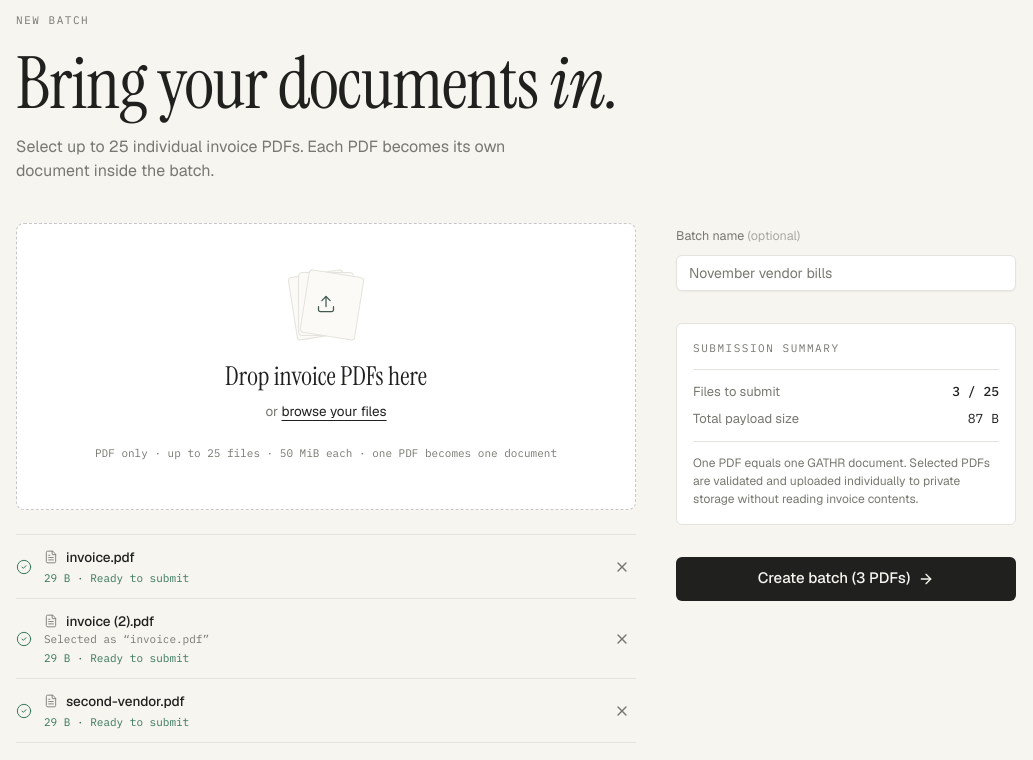
Test case: Phase 3 intake UI, validation, keyboard accessibility, and recovery › handles empty state, valid multi-PDF selection, filename collision disambiguation, and file removal
The image size is (1033, 760).
Earlier steps of the test are not shown.
Later steps or results of the test are not shown.
Expected: the button with aria-label "Select PDF files" is shown, [16,223,636,510]
Expected: the button "Create batch (3 PDFs)" is enabled, [676,556,1016,600]
Click the button named "Remove invoice (2).pdf" at [622, 639], box [608,625,636,653]
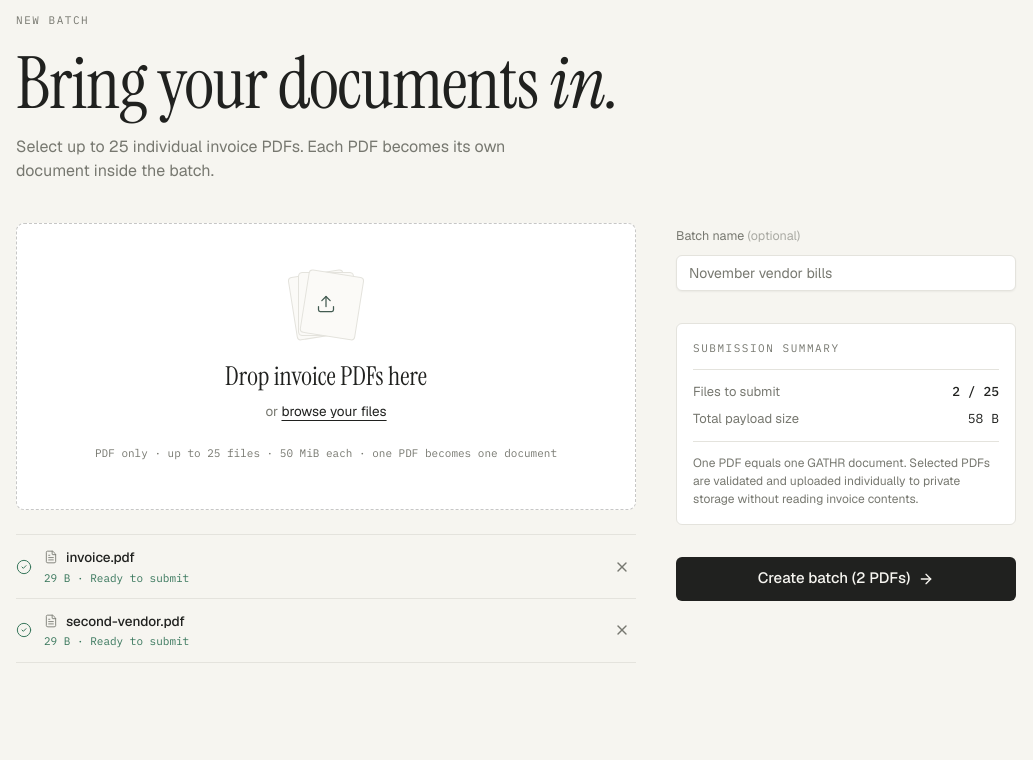
Expected: the button "Create batch (2 PDFs)" is enabled, [676,556,1016,600]
Expected: the number of list items is 2, [16,535,636,599]; [16,599,636,663]
